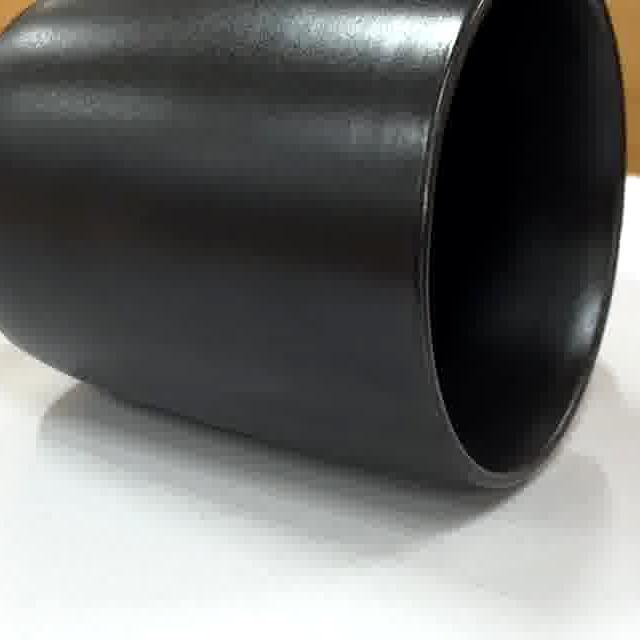cup: (0, 0, 626, 494)
